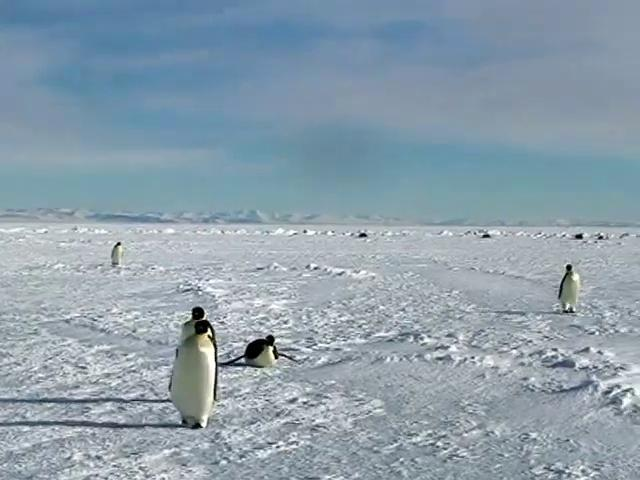animal: (219, 335, 296, 366)
